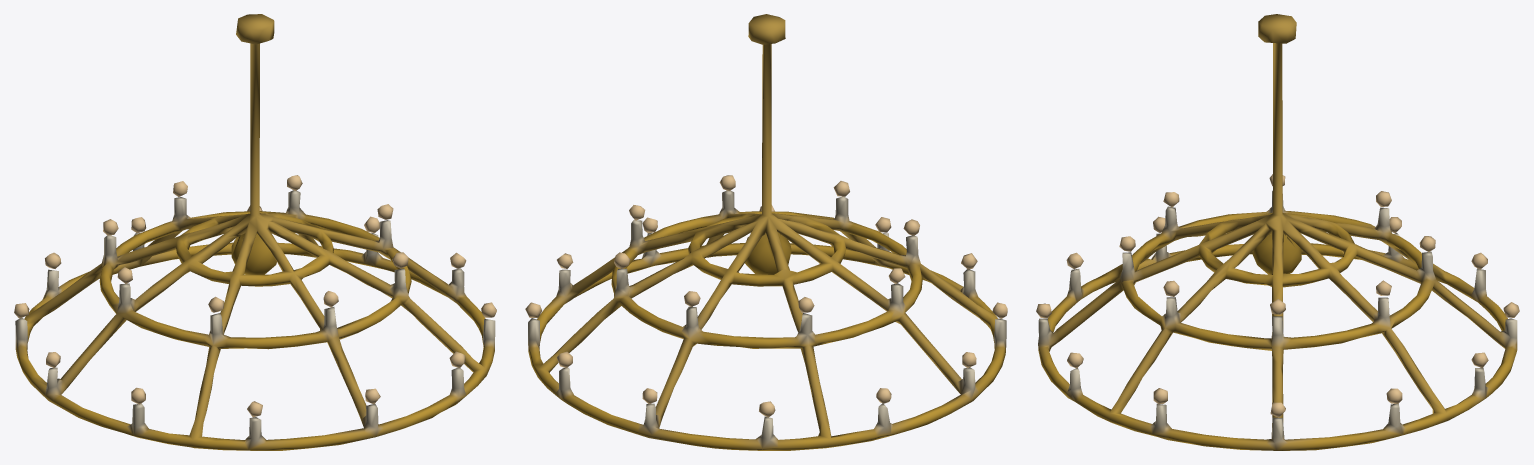
Rendered from lumiere-pendant-chandelier.glb.
The picture shows the model from 3 angles, left to right: view 1: azimuth 30°, elevation 25°; view 2: azimuth 150°, elevation 25°; view 3: azimuth 270°, elevation 25°; orthographic projection.
Visible parts, largest first — view 1: lumiere-pendant-chandelier_LOD0, lumiere-pendant-chandelier-glow_LOD0; view 2: lumiere-pendant-chandelier_LOD0, lumiere-pendant-chandelier-glow_LOD0; view 3: lumiere-pendant-chandelier_LOD0, lumiere-pendant-chandelier-glow_LOD0.
Part boxes in pixels (x1,y1,x2,y2): lumiere-pendant-chandelier_LOD0: (15, 14, 495, 450); lumiere-pendant-chandelier-glow_LOD0: (14, 175, 496, 417); lumiere-pendant-chandelier_LOD0: (528, 14, 1006, 450); lumiere-pendant-chandelier-glow_LOD0: (525, 175, 1007, 417); lumiere-pendant-chandelier_LOD0: (1038, 14, 1517, 450); lumiere-pendant-chandelier-glow_LOD0: (1036, 174, 1519, 417).
Size of what is drawn, in the model's own units: 1.45 by 1.1 by 1.45.
